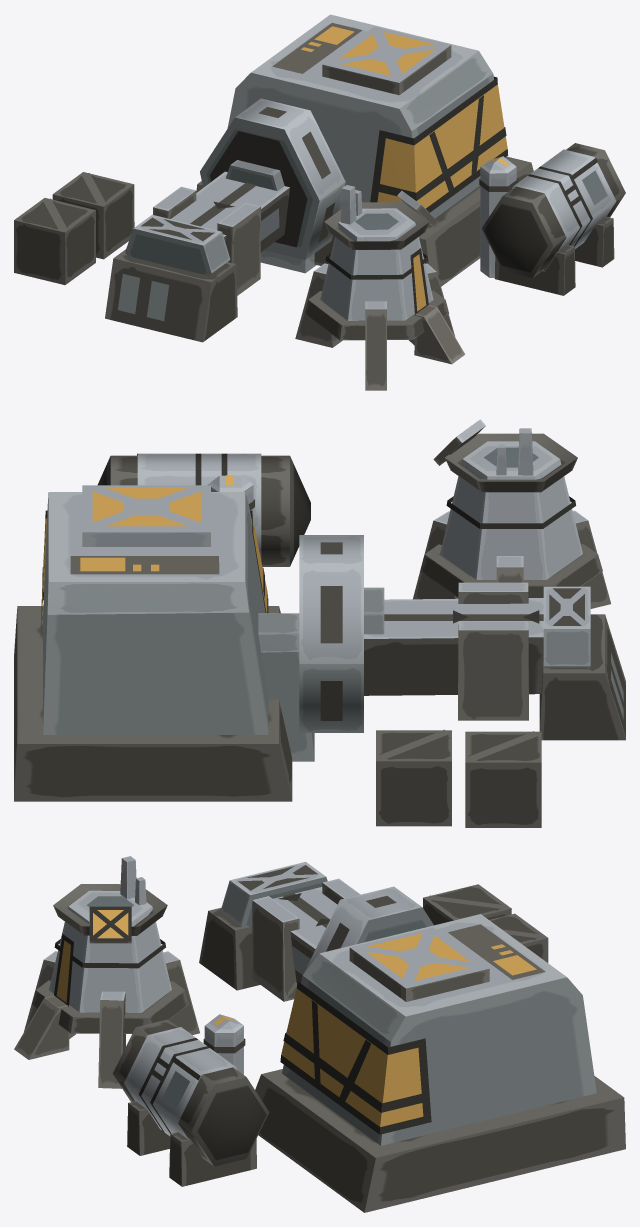
File: supplydepot1.FBX
3 views of the same model, one above another, from view 1: azimuth 30°, elevation 25°; view 2: azimuth 150°, elevation 25°; view 3: azimuth 270°, elevation 25° (orthographic). The views are drawn at different scales.
Parts seen in each view (by area): view 1: supplydepot1, c, a; view 2: supplydepot1, c, a, b; view 3: supplydepot1, c, b, a.
Part boxes in pixels (x1,y1,x2,y2): supplydepot1: [14, 14, 625, 390]; c: [153, 186, 260, 295]; a: [479, 156, 517, 277]; supplydepot1: [14, 428, 625, 827]; c: [453, 582, 539, 720]; a: [208, 475, 254, 521]; b: [433, 419, 485, 465]; supplydepot1: [14, 856, 625, 1212]; c: [252, 878, 360, 1001]; b: [89, 906, 131, 943]; a: [203, 1014, 245, 1074].
Bounding box in the file's own units: 127 × 129 × 45.32.
